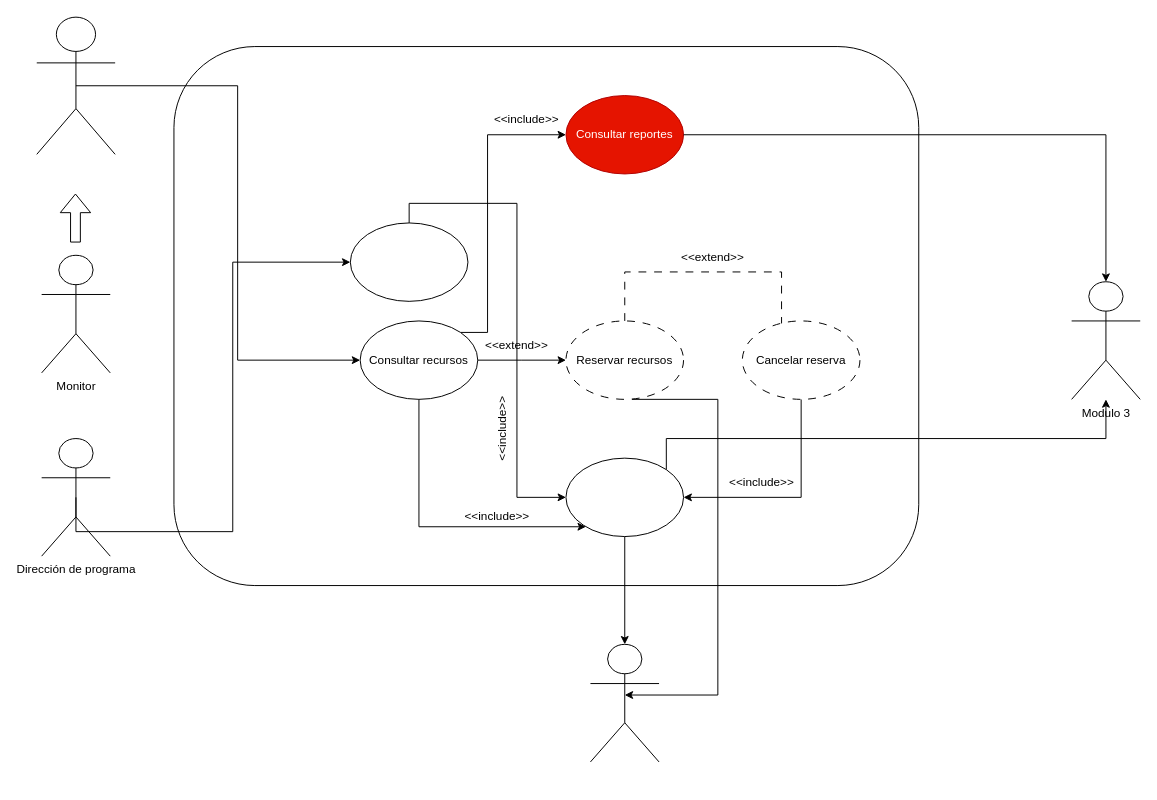
The diagram is 1157 pixels wide and 800 high, and some of its shapes have lost their labels. Each missing label, with the centre of its shape:
Estudiante: (75,85)
Importar horarios semestrales: (408,261)
Modulo 1: (624,702)
Notificar estado de recursos: (624,497)
